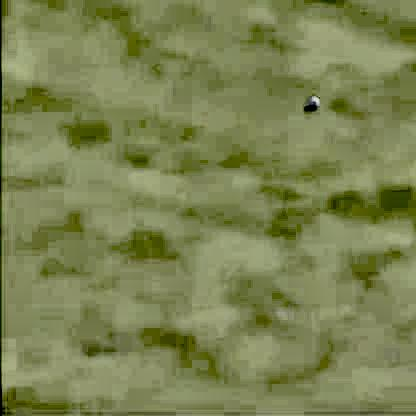golfball: (308, 90, 318, 103)
